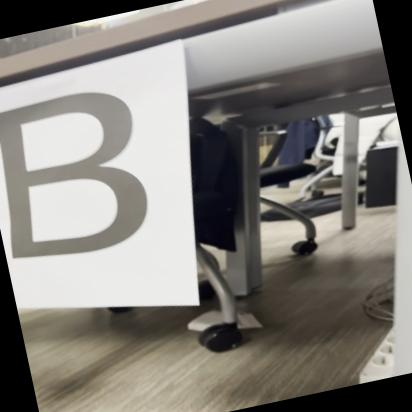seat: (0, 69, 175, 277)
